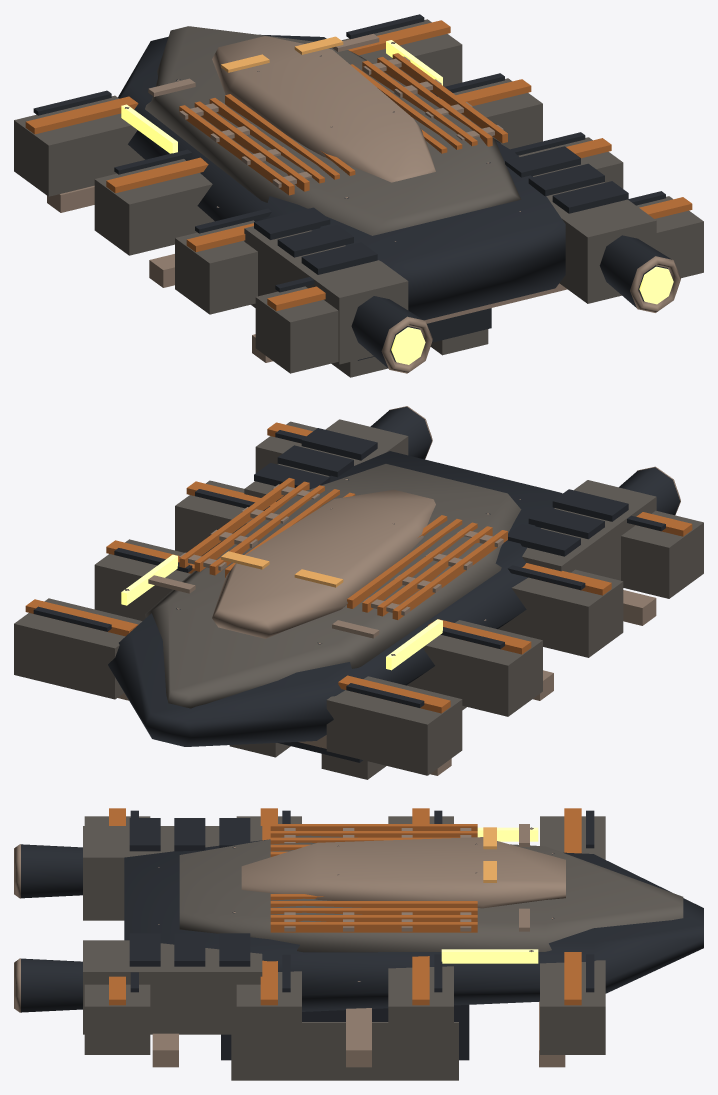
The model's file is compact_high_gravity--resource_outpost_ship--lod1.glb.
3 renders of one model, top to bottom at view 1: azimuth 30°, elevation 25°; view 2: azimuth 150°, elevation 25°; view 3: azimuth 270°, elevation 25°, orthographic. The views are drawn at different scales.
Visible parts, largest first — view 1: load_bearing_wedge_1, stepped_main_plate_2, reinforced_command_deck_3, habitat_block_47, habitat_block_50, armored_drive_block_4, armored_drive_block_25, habitat_block_53, habitat_block_56, habitat_block_62, habitat_block_68, habitat_block_59 (+41 smaller); view 2: stepped_main_plate_2, load_bearing_wedge_1, reinforced_command_deck_3, habitat_block_47, habitat_block_50, habitat_block_59, habitat_block_53, habitat_block_56, armored_drive_block_4, habitat_block_62, habitat_block_65, armored_drive_block_25 (+29 smaller); view 3: load_bearing_wedge_1, stepped_main_plate_2, reinforced_command_deck_3, armored_drive_block_25, deployment_slab_76, habitat_block_59, armored_drive_block_4, habitat_block_62, habitat_block_65, habitat_block_68, engine_shroud_26, engine_shroud_5 (+25 smaller).
Boxes of the visible parts, bbox=[...] form: load_bearing_wedge_1: bbox=[118, 34, 565, 320]; stepped_main_plate_2: bbox=[145, 26, 520, 235]; reinforced_command_deck_3: bbox=[212, 36, 435, 182]; habitat_block_47: bbox=[14, 95, 144, 196]; habitat_block_50: bbox=[94, 159, 214, 255]; armored_drive_block_4: bbox=[244, 226, 408, 364]; armored_drive_block_25: bbox=[533, 165, 656, 303]; habitat_block_53: bbox=[175, 220, 257, 314]; habitat_block_56: bbox=[255, 286, 338, 373]; habitat_block_62: bbox=[438, 78, 542, 149]; habitat_block_68: bbox=[636, 196, 703, 278]; habitat_block_59: bbox=[341, 19, 462, 86]; stepped_main_plate_2: bbox=[145, 464, 521, 708]; load_bearing_wedge_1: bbox=[108, 451, 562, 746]; reinforced_command_deck_3: bbox=[212, 489, 435, 638]; habitat_block_47: bbox=[326, 676, 462, 775]; habitat_block_50: bbox=[407, 620, 542, 716]; habitat_block_59: bbox=[14, 598, 142, 699]; habitat_block_53: bbox=[498, 569, 623, 657]; habitat_block_56: bbox=[621, 510, 703, 598]; armored_drive_block_4: bbox=[522, 480, 656, 580]; habitat_block_62: bbox=[94, 539, 190, 620]; habitat_block_65: bbox=[175, 480, 253, 556]; armored_drive_block_25: bbox=[244, 419, 408, 501]; load_bearing_wedge_1: bbox=[124, 840, 703, 1011]; stepped_main_plate_2: bbox=[179, 835, 683, 952]; reinforced_command_deck_3: bbox=[241, 837, 565, 908]; armored_drive_block_25: bbox=[83, 940, 262, 1034]; deployment_slab_76: bbox=[231, 1022, 458, 1080]; habitat_block_59: bbox=[540, 960, 605, 1054]; armored_drive_block_4: bbox=[83, 826, 262, 920]; habitat_block_62: bbox=[388, 966, 453, 1054]; habitat_block_65: bbox=[236, 971, 301, 1054]; habitat_block_68: bbox=[84, 984, 150, 1054]; engine_shroud_26: bbox=[21, 958, 82, 1012]; engine_shroud_5: bbox=[21, 844, 82, 898].
Bounding box in the file's own units: 2100 × 1000 × 3200.
